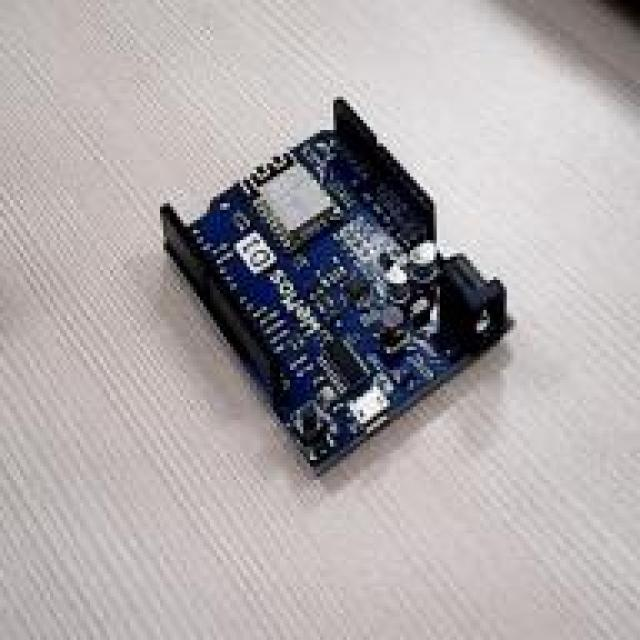Wemos: (161, 101, 508, 471)
